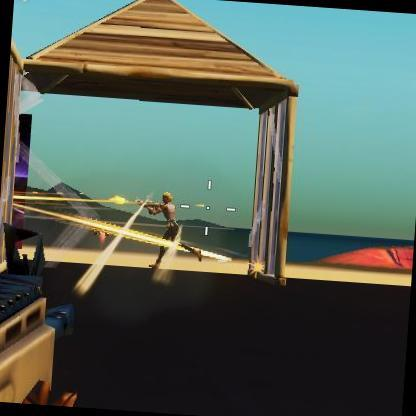person: (137, 188, 183, 268)
